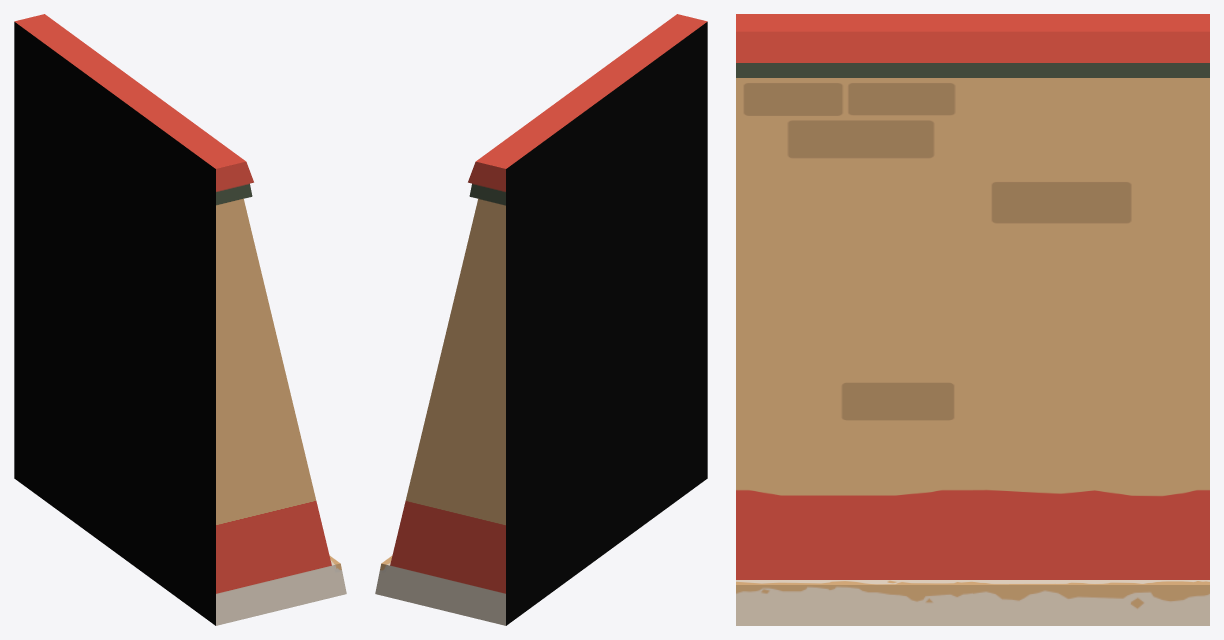
Rendered from wallTwo.fbx.
The picture shows the model from 3 angles, left to right: view 1: azimuth 30°, elevation 25°; view 2: azimuth 150°, elevation 25°; view 3: azimuth 270°, elevation 25°; orthographic projection. The views are drawn at different scales.
Parts seen in each view (by area): view 1: WallTwo; view 2: WallTwo; view 3: WallTwo.
Part boxes in pixels (x1,y1,x2,y2): WallTwo: [14, 14, 346, 625]; WallTwo: [375, 14, 707, 625]; WallTwo: [736, 14, 1209, 625].
Bounding box in the file's own units: 1.5 × 5 × 4.
